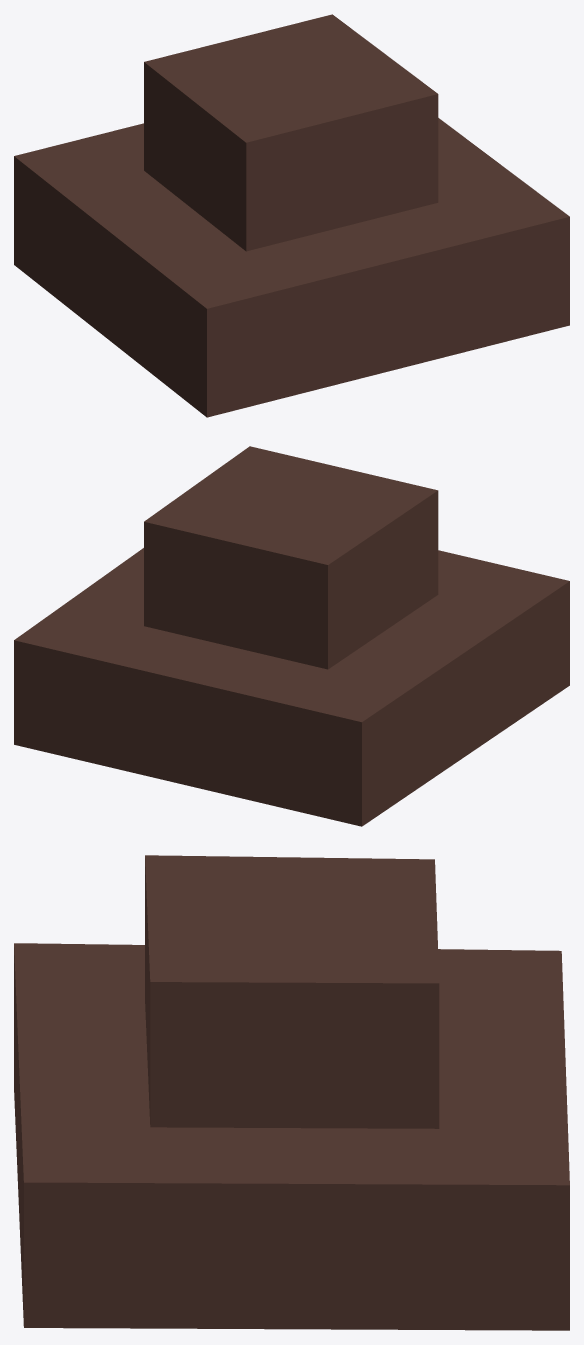
File: park_statue.dae
3 views of the same model, one above another, from view 1: azimuth 30°, elevation 25°; view 2: azimuth 150°, elevation 25°; view 3: azimuth 270°, elevation 25° (orthographic). The views are drawn at different scales.
Parts seen in each view (by area): view 1: Plane.001; view 2: Plane.001; view 3: Plane.001.
Boxes of the visible parts, x1,y1,x2,y2 form: Plane.001: (14, 14, 569, 417); Plane.001: (14, 446, 569, 826); Plane.001: (14, 855, 569, 1330).
Bounding box in the file's own units: 5.4 × 5.24 × 3.02.
